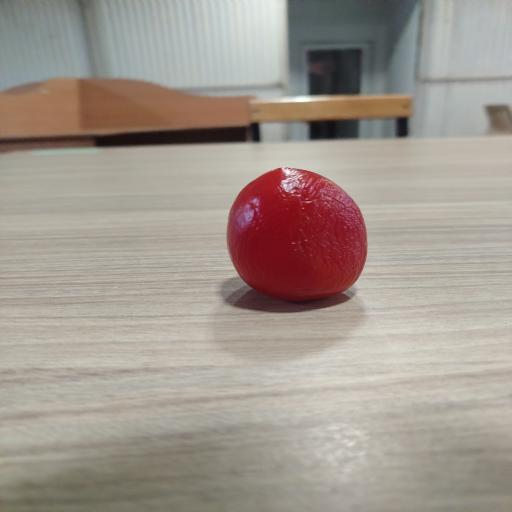spoiled: (227, 167, 367, 301)
